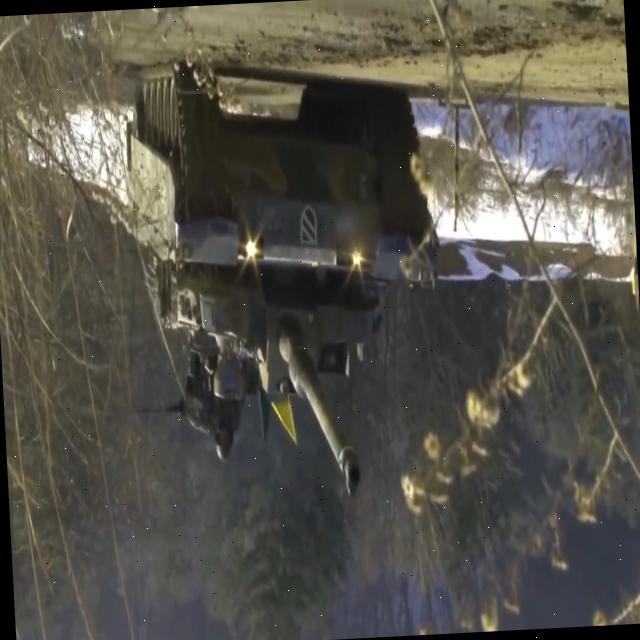korea tank: (121, 50, 456, 512)
